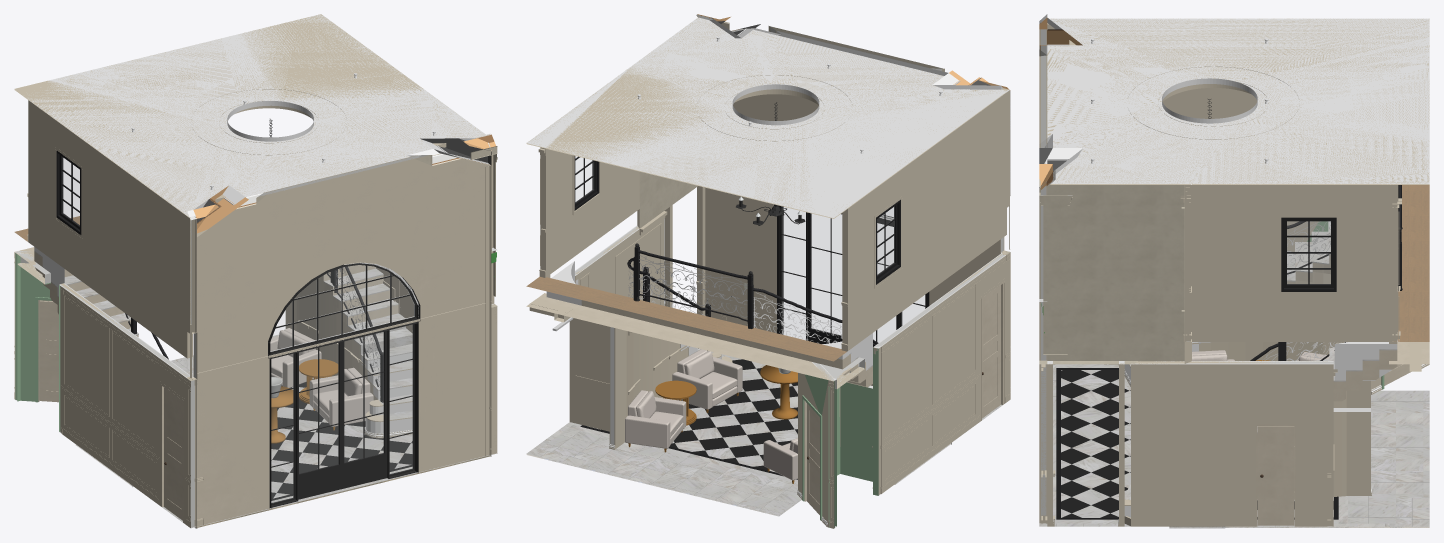
Rendered from entry-31ce2d8e8461.glb.
3 renders of one model, left to right at view 1: azimuth 30°, elevation 25°; view 2: azimuth 150°, elevation 25°; view 3: azimuth 270°, elevation 25°, orthographic. The views are drawn at different scales.
Parts seen in each view (by area): view 1: entry-9d91b47435c6fb33, entry-4edf3a9420c06709, entry-e8793759323e04f0, entry-698abdfdc6fb970d, entry-9ca48b730e5de4b2, entry-746250f96522f643, entry-85f0fd939e0fcc78, entry-8d5f500af8e4c699, entry-785988ccf932ddd5, entry-969fb0f33943ba89, entry-c4ac463b6a960119, entry-a5eabba2ad6474eb (+18 smaller); view 2: entry-9d91b47435c6fb33, entry-746250f96522f643, entry-e8793759323e04f0, entry-85f0fd939e0fcc78, entry-2575515a05775d9e, entry-d5a4a1b5d3594c04, entry-698abdfdc6fb970d, entry-ba376bd68a22f7f3, entry-c4ac463b6a960119, entry-c51ecd664a3b22a3, entry-8b5649904563319a, entry-6a051330000fbca1 (+28 smaller); view 3: entry-9d91b47435c6fb33, entry-6a051330000fbca1, entry-c51ecd664a3b22a3, entry-e8793759323e04f0, entry-62353aa10fc57f23, entry-c4ac463b6a960119, entry-ba376bd68a22f7f3, entry-2575515a05775d9e, entry-20932135983111ad, entry-489e9ad801b4b62e, entry-80d276f58a4dc5cb, entry-224035c89a69c041 (+19 smaller).
Part boxes in pixels (left/top/right/bottom): entry-9d91b47435c6fb33: left=14, top=14, right=485, bottom=218; entry-4edf3a9420c06709: left=195, top=150, right=491, bottom=372; entry-e8793759323e04f0: left=14, top=14, right=483, bottom=217; entry-698abdfdc6fb970d: left=269, top=322, right=418, bottom=508; entry-9ca48b730e5de4b2: left=195, top=302, right=490, bottom=526; entry-746250f96522f643: left=28, top=100, right=192, bottom=358; entry-85f0fd939e0fcc78: left=60, top=283, right=192, bottom=525; entry-8d5f500af8e4c699: left=268, top=262, right=420, bottom=358; entry-785988ccf932ddd5: left=196, top=150, right=491, bottom=373; entry-969fb0f33943ba89: left=196, top=302, right=490, bottom=526; entry-c4ac463b6a960119: left=271, top=379, right=412, bottom=498; entry-a5eabba2ad6474eb: left=14, top=251, right=50, bottom=401; entry-9d91b47435c6fb33: left=526, top=17, right=1008, bottom=218; entry-746250f96522f643: left=842, top=92, right=1006, bottom=350; entry-e8793759323e04f0: left=528, top=18, right=1008, bottom=210; entry-85f0fd939e0fcc78: left=873, top=253, right=1006, bottom=494; entry-2575515a05775d9e: left=526, top=275, right=851, bottom=381; entry-d5a4a1b5d3594c04: left=706, top=188, right=1007, bottom=389; entry-698abdfdc6fb970d: left=777, top=205, right=929, bottom=346; entry-ba376bd68a22f7f3: left=540, top=428, right=800, bottom=515; entry-c4ac463b6a960119: left=586, top=354, right=797, bottom=472; entry-c51ecd664a3b22a3: left=540, top=147, right=639, bottom=277; entry-8b5649904563319a: left=570, top=281, right=609, bottom=431; entry-6a051330000fbca1: left=569, top=219, right=663, bottom=421; entry-9d91b47435c6fb33: left=1041, top=18, right=1429, bottom=184; entry-6a051330000fbca1: left=1131, top=361, right=1333, bottom=526; entry-c51ecd664a3b22a3: left=1192, top=184, right=1398, bottom=341; entry-e8793759323e04f0: left=1042, top=14, right=1429, bottom=183; entry-62353aa10fc57f23: left=1047, top=184, right=1191, bottom=364; entry-c4ac463b6a960119: left=1061, top=370, right=1333, bottom=517; entry-ba376bd68a22f7f3: left=1348, top=390, right=1429, bottom=523; entry-2575515a05775d9e: left=1389, top=185, right=1429, bottom=364; entry-20932135983111ad: left=1281, top=217, right=1336, bottom=291; entry-489e9ad801b4b62e: left=1043, top=195, right=1067, bottom=354; entry-80d276f58a4dc5cb: left=1257, top=426, right=1294, bottom=525; entry-224035c89a69c041: left=1346, top=380, right=1370, bottom=495.
Size of the model in its own units: 6.54 by 6.44 by 6.51.
Materials: 44 (9 with a texture image).
